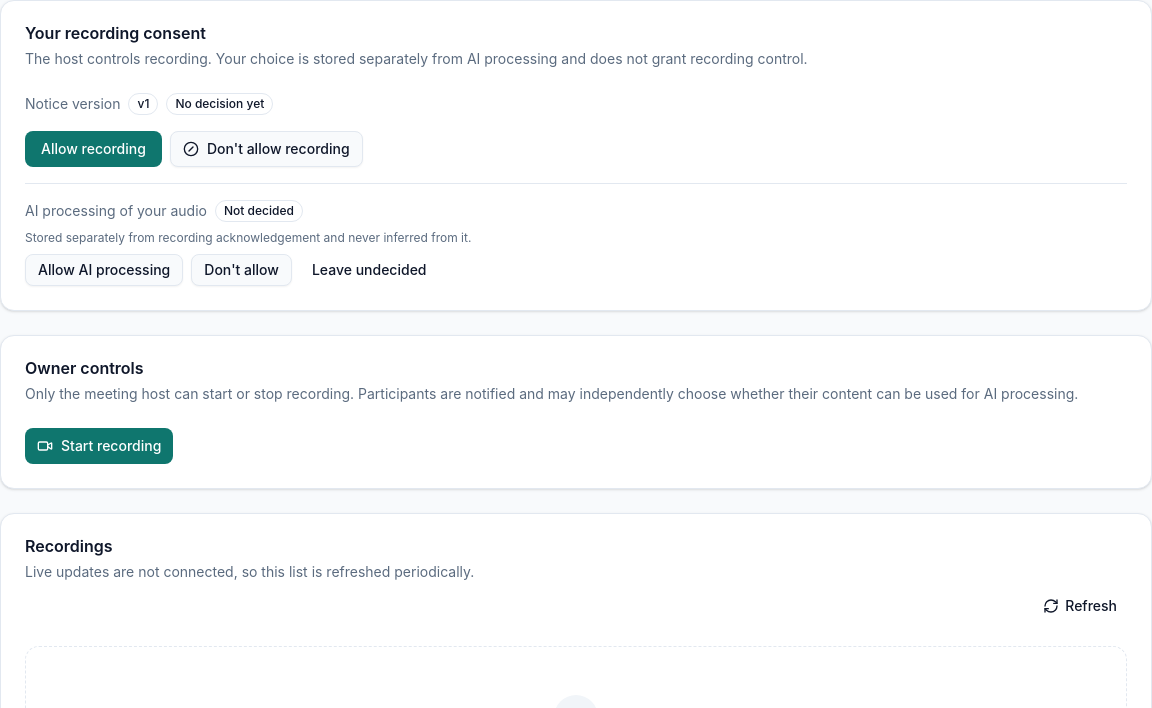
Test: RecordingPanel host controls › reports an unconfigured provider as a server-side gap
The image size is (1152, 708).
Click the button with test id "start-recording" at (99, 446), box [25,428,173,464]
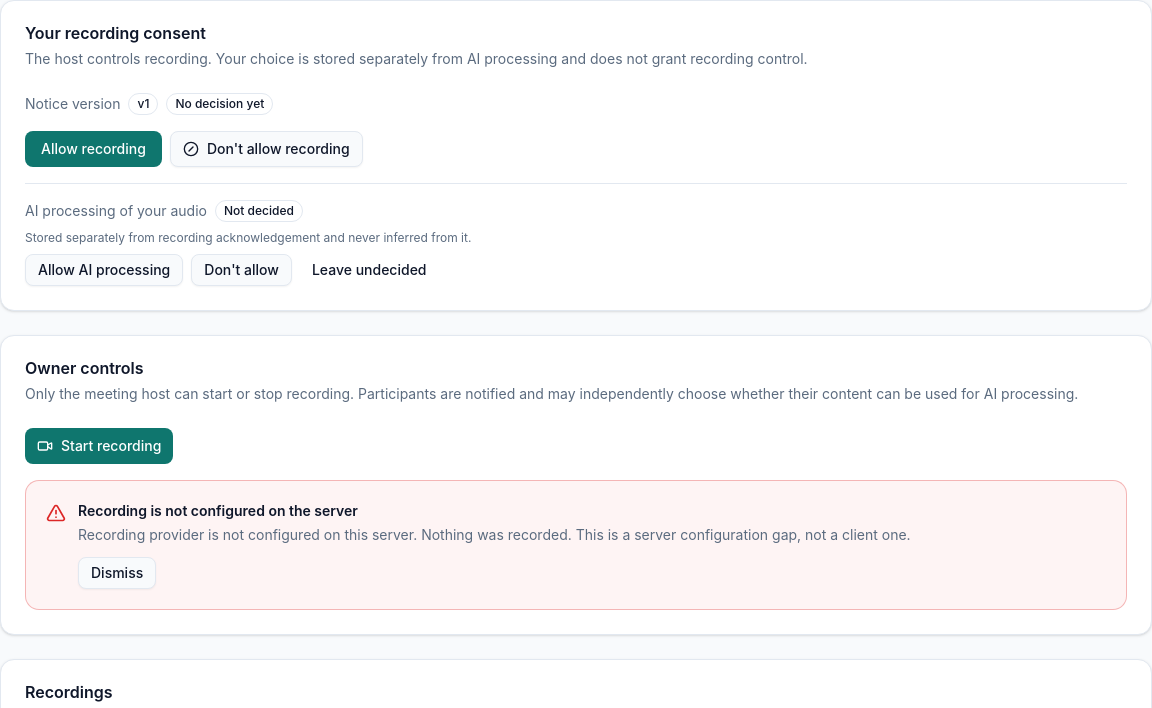
Expected: the heading "Recording is not configured on the server" is shown, [78,502,358,519]
Expected: the text "Nothing was recorded" is shown, [78,526,911,543]
